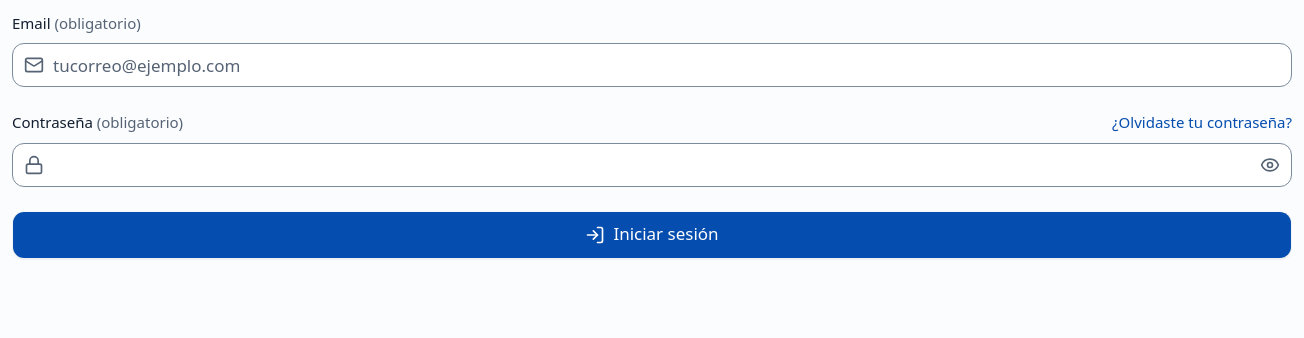
Test case: LoginForm — errores › lleva el foco al primer campo con error y lo anuncia por la región viva
Click the button "Iniciar sesión".
click(652, 234)  # box [12,210,1292,258]
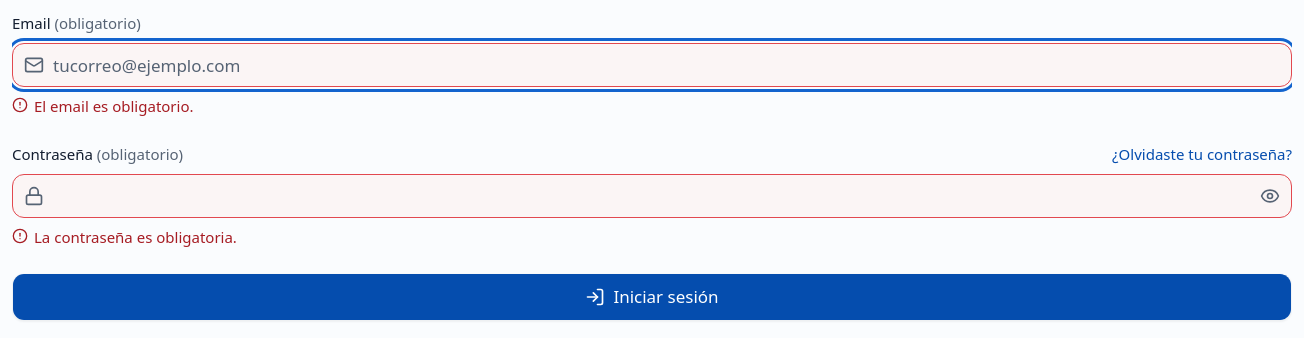
Expected: the number of messages is 2, [12,96,194,116]; [12,227,237,247]
